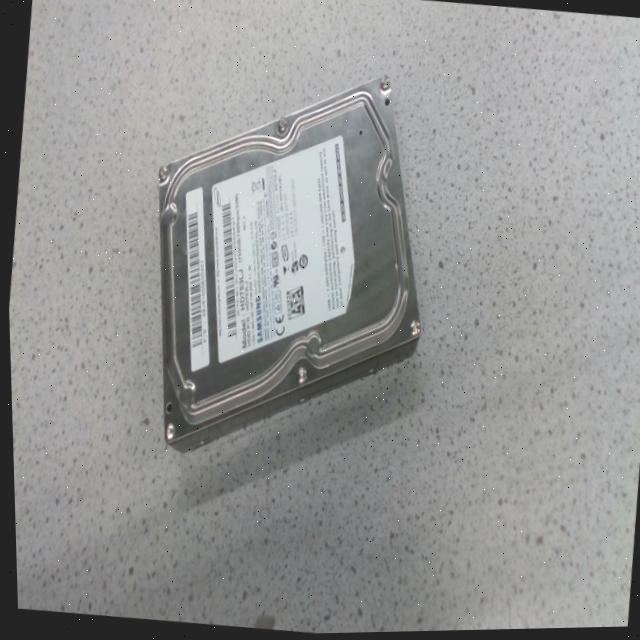label: (210, 137, 352, 362), (185, 189, 206, 371)
lid: (157, 78, 417, 444)
screw: (157, 165, 167, 183), (162, 423, 171, 442), (295, 367, 304, 386), (276, 118, 286, 135), (408, 322, 417, 338), (380, 76, 389, 92)
